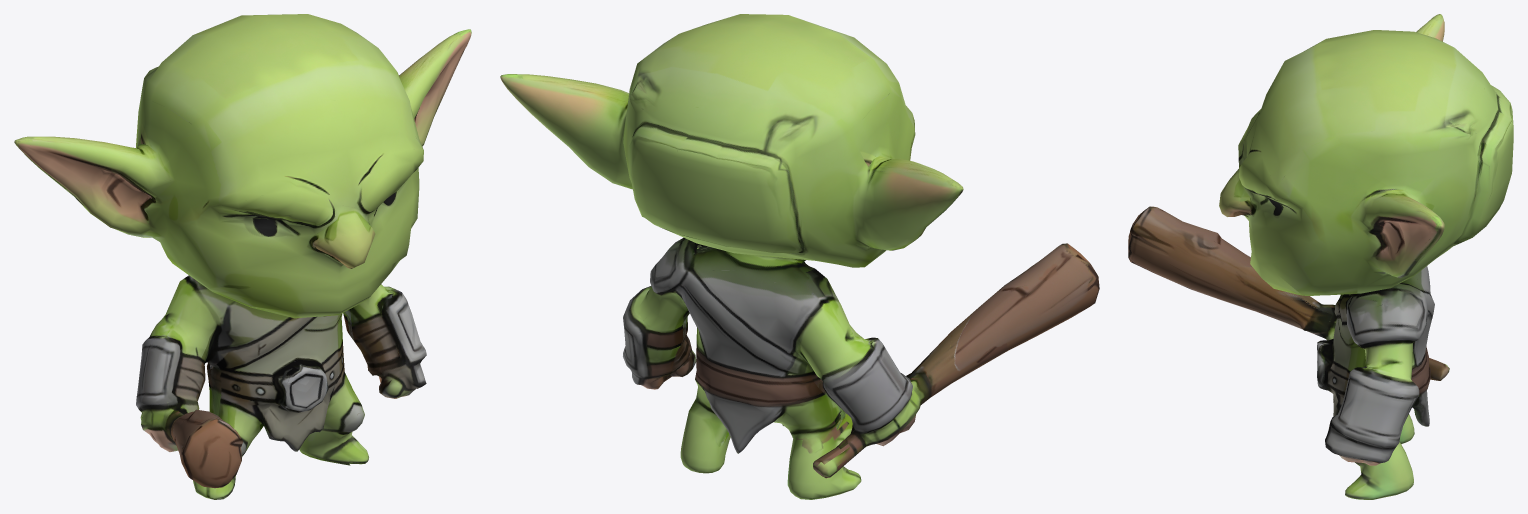
File: enemy_goblin.glb
3 views of the same model, side by side, from view 1: azimuth 30°, elevation 25°; view 2: azimuth 150°, elevation 25°; view 3: azimuth 270°, elevation 25° (orthographic). The views are drawn at different scales.
Size of the model in its own units: 1.89 by 1.73 by 1.45.
1 material, 1 textured.
